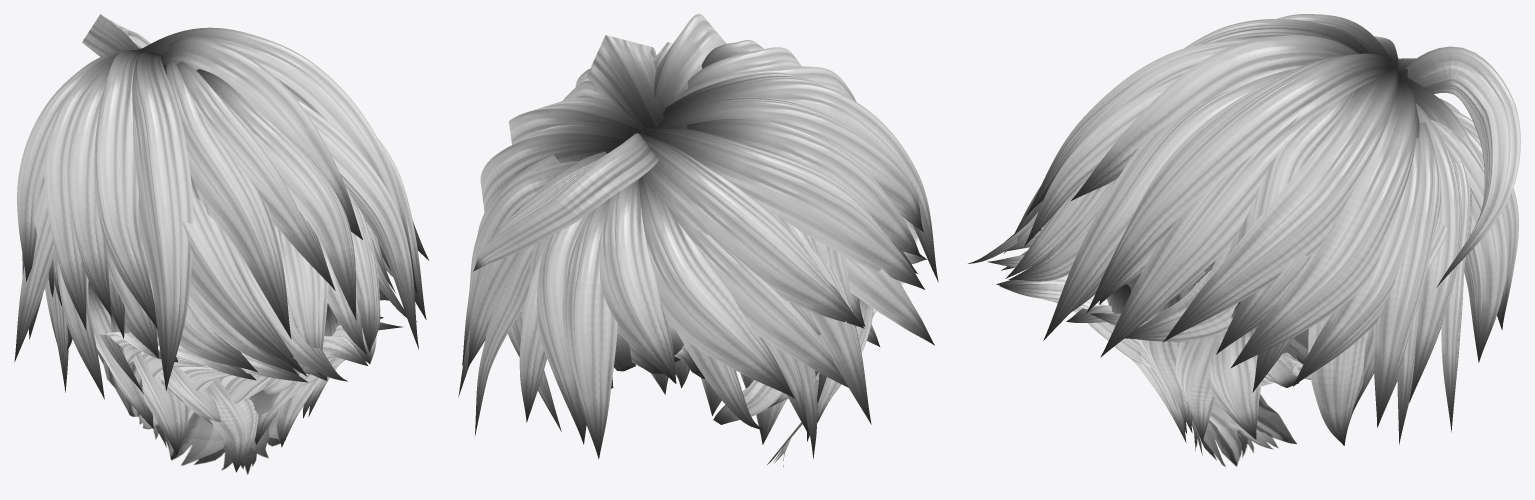
File: hair-masculine-animeParted.glb
3 renders of one model, left to right at view 1: azimuth 30°, elevation 25°; view 2: azimuth 150°, elevation 25°; view 3: azimuth 270°, elevation 25°, orthographic. The views are drawn at different scales.
Visible parts, largest first — view 1: hair-animeParted; view 2: hair-animeParted; view 3: hair-animeParted.
Boxes of the visible parts, <box> form: hair-animeParted: <box>14,14,429,474</box>; hair-animeParted: <box>458,14,938,467</box>; hair-animeParted: <box>968,14,1520,467</box>.
Size of the model in its own units: 0.2573 by 0.2741 by 0.3179.
3 materials, 3 textured.
